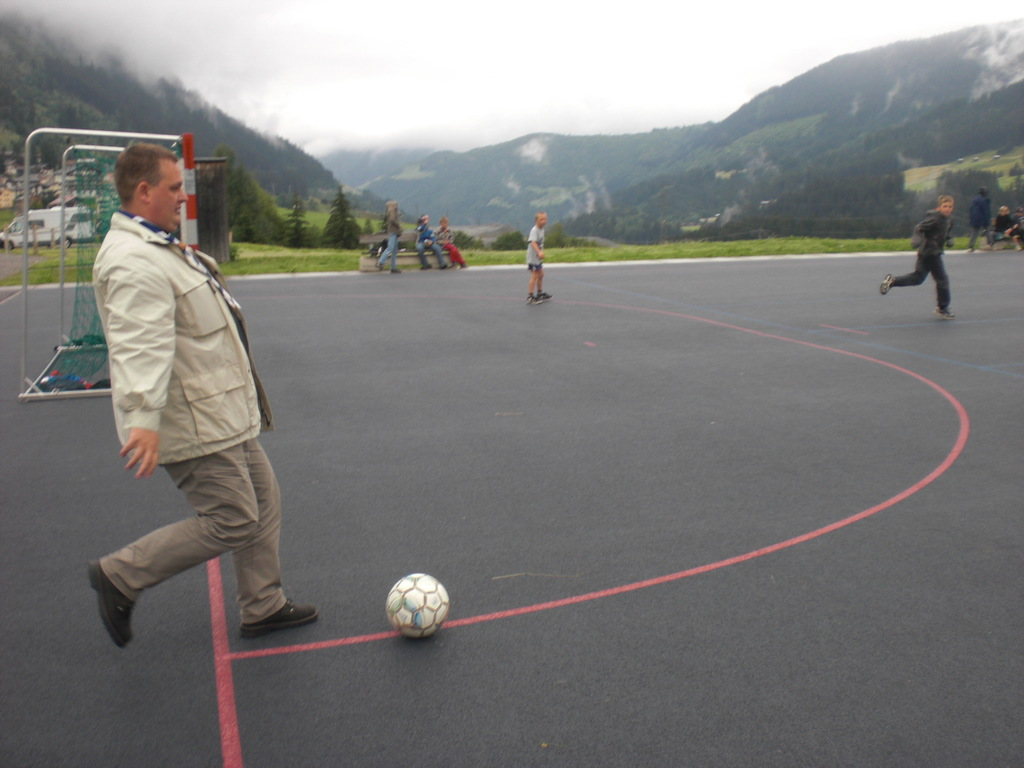Person: (87, 142, 1023, 647)
